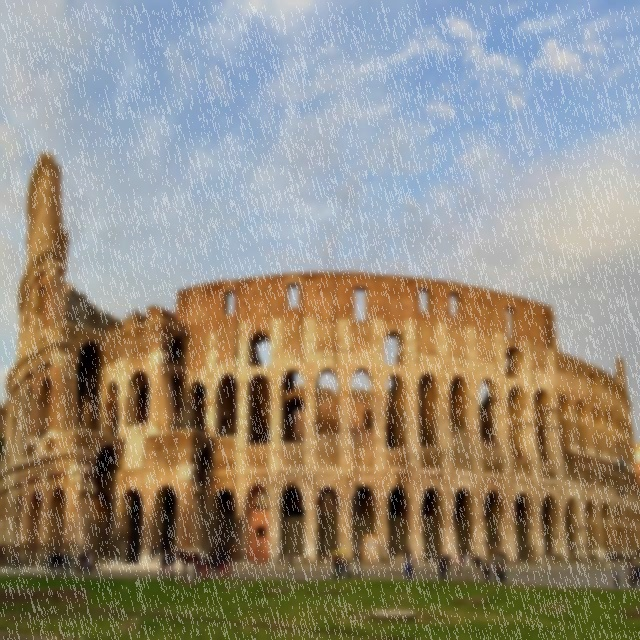pessoa: (204, 543, 230, 567), (494, 548, 508, 586), (332, 552, 348, 573), (611, 556, 621, 589), (400, 550, 410, 582), (62, 550, 72, 577), (50, 548, 59, 577), (285, 549, 295, 575), (463, 550, 471, 582), (444, 551, 452, 581), (439, 552, 447, 582), (406, 550, 414, 580), (168, 550, 176, 580), (57, 548, 65, 577), (456, 550, 463, 582), (490, 559, 498, 584), (483, 558, 491, 583), (634, 559, 640, 590), (438, 552, 444, 582), (161, 549, 167, 577), (82, 550, 89, 574), (164, 550, 170, 577), (474, 552, 482, 572), (78, 550, 85, 572), (150, 543, 158, 562), (87, 552, 93, 576), (440, 558, 446, 582), (628, 562, 632, 590), (630, 563, 636, 581), (333, 552, 341, 565), (149, 547, 155, 562)
